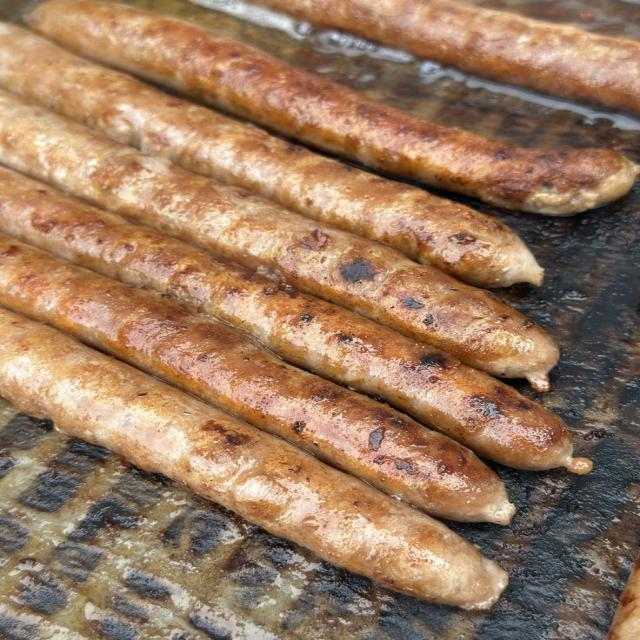sausage: (0, 168, 586, 471), (0, 92, 559, 389), (0, 309, 506, 608), (0, 234, 514, 523), (0, 24, 543, 287), (27, 0, 639, 214), (258, 0, 639, 114), (607, 557, 639, 639)
